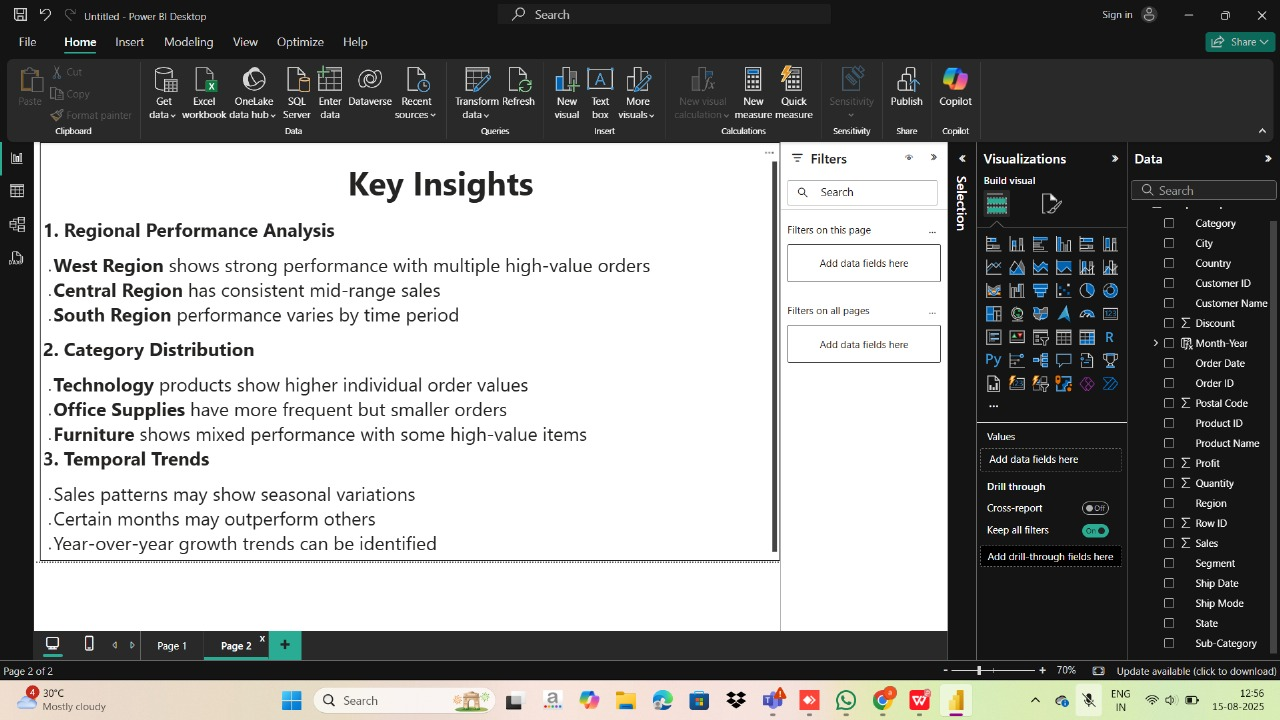

Layout of this report page (visuals, bound fields, positions):
{"tool":"powerbi","page":{"name":"Page 2","canvas":[1280,720],"ordinal":1},"visuals":[{"type":"textbox","box":[10,0,1270,719.4],"z":0}]}

Visuals, with their boxes on the page's 1280x720 design canvas (x1, y1, x2, y2). These are canvas units, not pixel positions in the 1280x720 screenshot, which may show the page scaled, cropped or inside an application window:
textbox: {"left": 10, "top": 0, "right": 1280, "bottom": 719}
